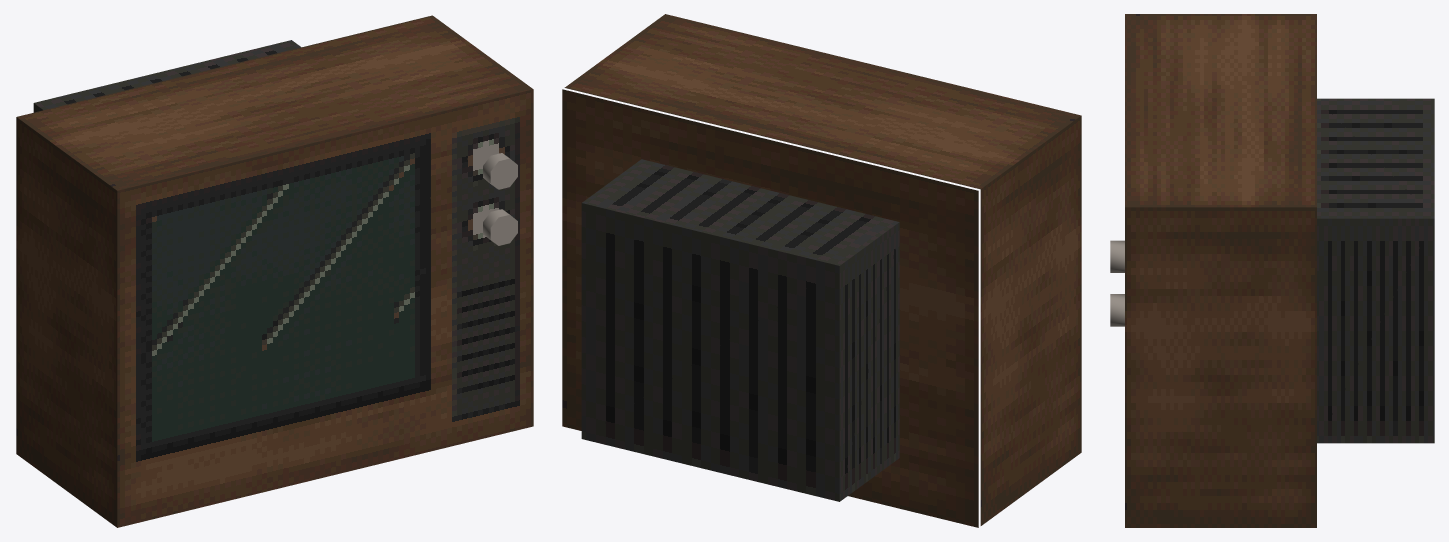
Rendered from tv_crt.glb.
3 renders of one model, left to right at view 1: azimuth 30°, elevation 25°; view 2: azimuth 150°, elevation 25°; view 3: azimuth 270°, elevation 25°, orthographic. The views are drawn at different scales.
Parts seen in each view (by area): view 1: tv_crt; view 2: tv_crt; view 3: tv_crt.
Part boxes in pixels (bbox=[...]): tv_crt: bbox=[16, 15, 533, 527]; tv_crt: bbox=[562, 14, 1081, 527]; tv_crt: bbox=[1110, 14, 1434, 527].
Bounding box in the file's own units: 0.62 × 0.48 × 0.44.
1 material, 1 textured.
